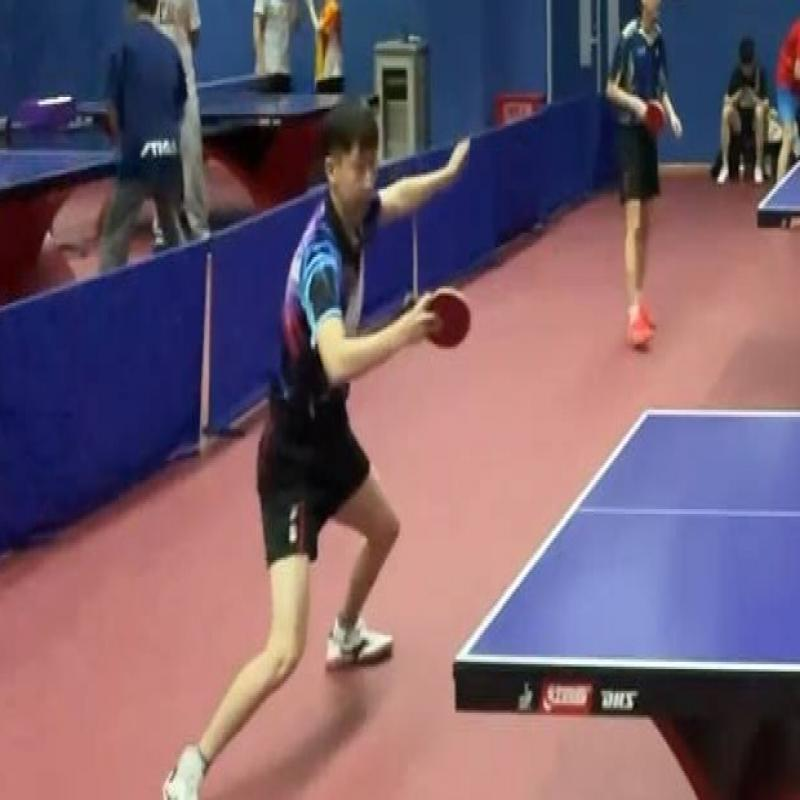bats: (401, 274, 477, 359)
